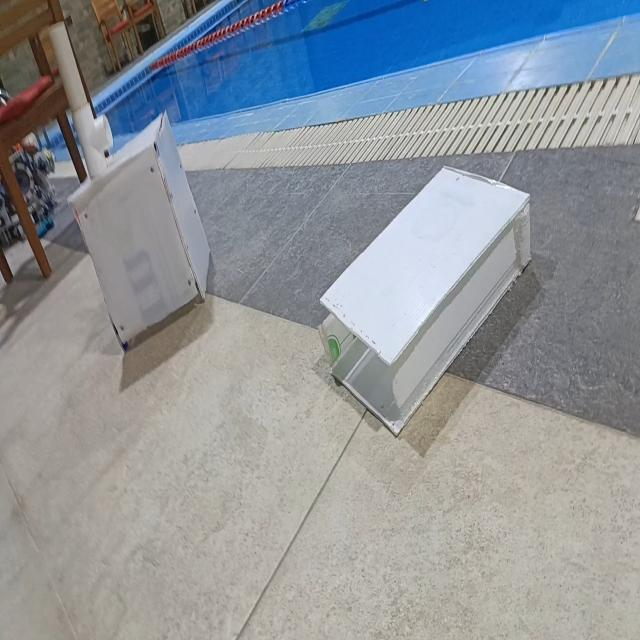Cube: (67, 108, 211, 352)
Cuboid: (317, 162, 532, 437)
